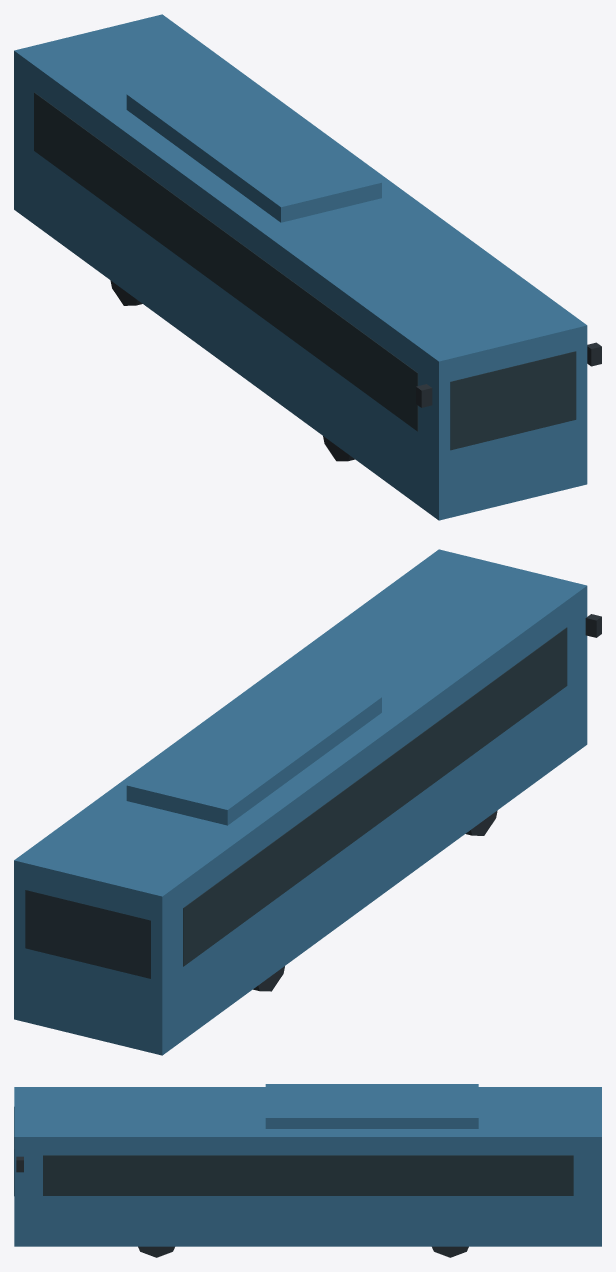
Rendered from city-bus-12m-exterior.lod2.glb.
3 views of the same model, one above another, from view 1: azimuth 30°, elevation 25°; view 2: azimuth 150°, elevation 25°; view 3: azimuth 270°, elevation 25° (orthographic). The views are drawn at different scales.
Parts seen in each view (by area): view 1: body-shell, glass, roof-equipment, body-trim; view 2: body-shell, glass, roof-equipment; view 3: body-shell, glass, roof-equipment, wheel-front-left-tyre, wheel-rear-left-tyre.
Boxes of the visible parts, x1=… form: body-shell: x1=14, y1=14, x2=587, y2=520; glass: x1=34, y1=92, x2=576, y2=450; roof-equipment: x1=126, y1=70, x2=381, y2=222; body-trim: x1=416, y1=342, x2=601, y2=407; body-shell: x1=14, y1=549, x2=587, y2=1055; glass: x1=25, y1=627, x2=567, y2=978; roof-equipment: x1=126, y1=672, x2=381, y2=825; body-shell: x1=14, y1=1087, x2=601, y2=1246; glass: x1=14, y1=1107, x2=573, y2=1195; roof-equipment: x1=265, y1=1084, x2=478, y2=1128; wheel-front-left-tyre: x1=138, y1=1246, x2=174, y2=1257; wheel-rear-left-tyre: x1=432, y1=1246, x2=468, y2=1257.
Size of the model in its own units: 3.04 by 3.07 by 12.41.
